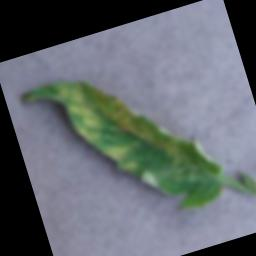Leaf_Mold: (52, 53, 185, 188)
